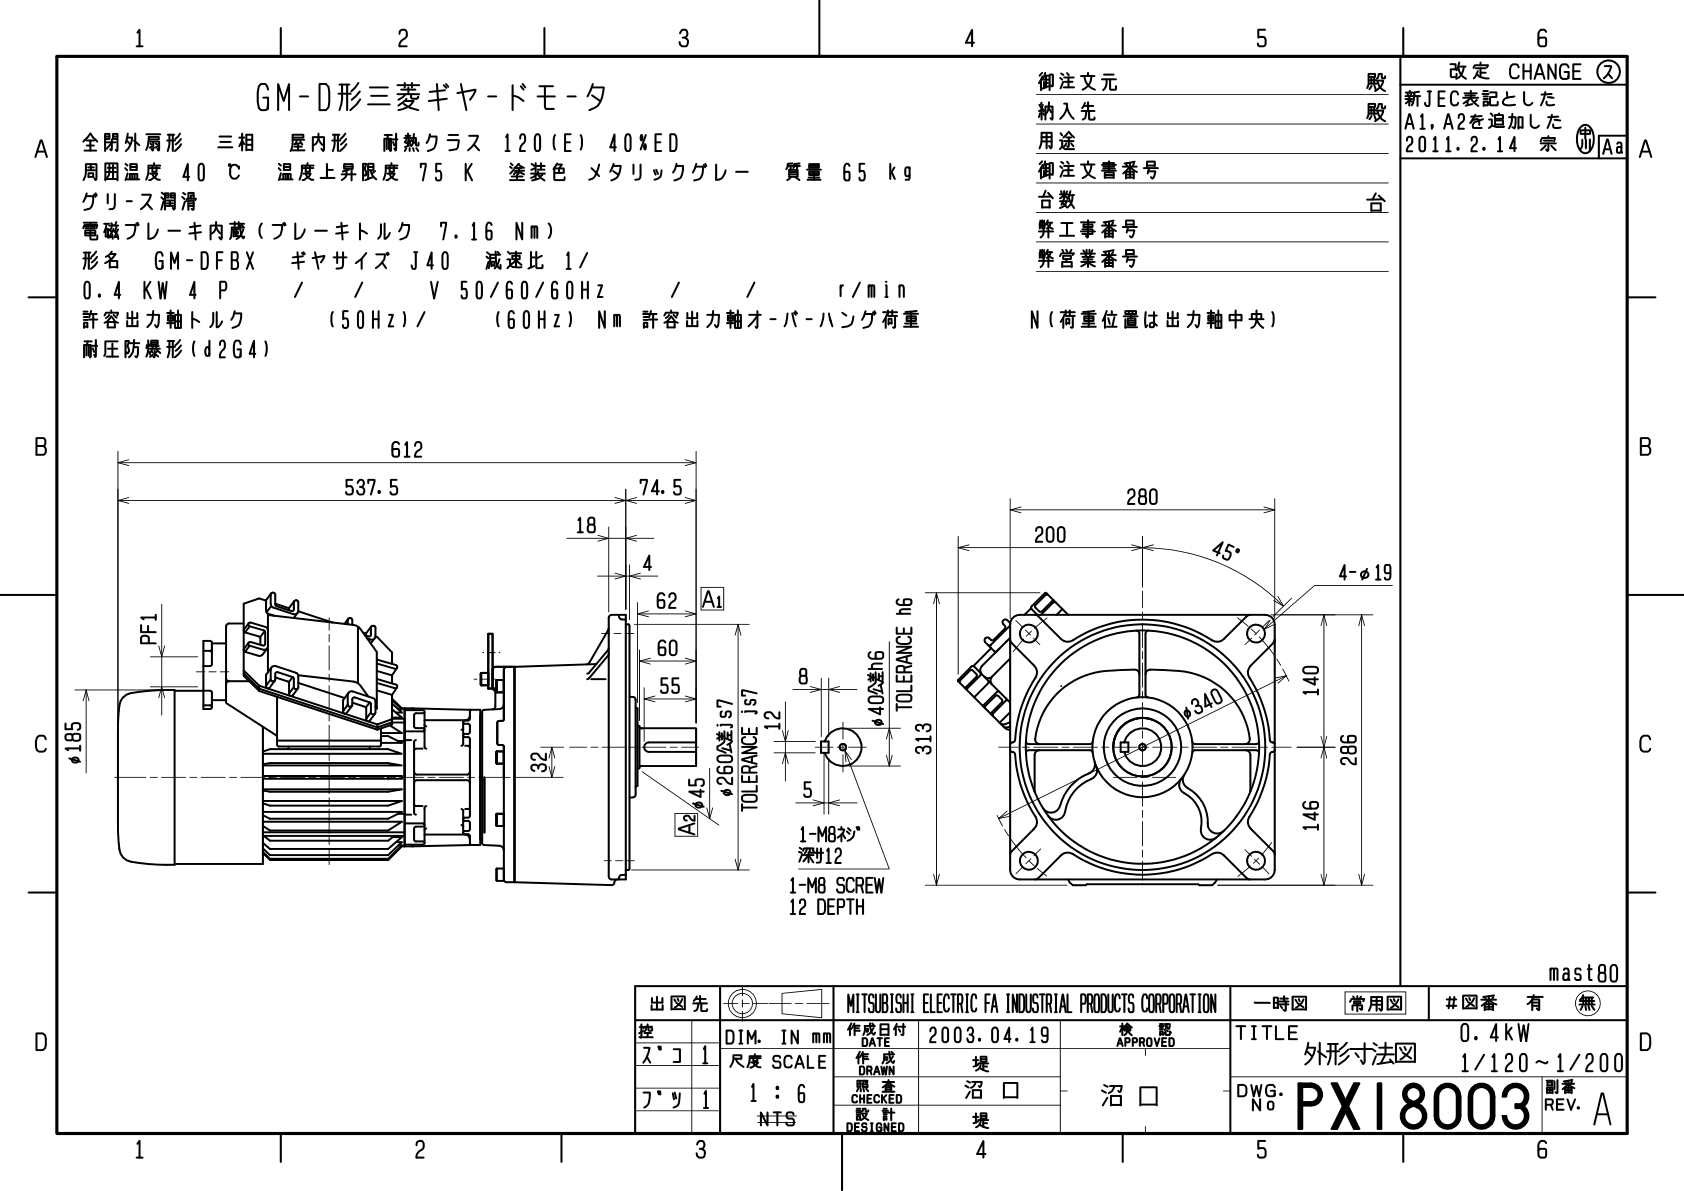GM_SP_屋内＿三相_フランジ: (61, 373, 1397, 951)
